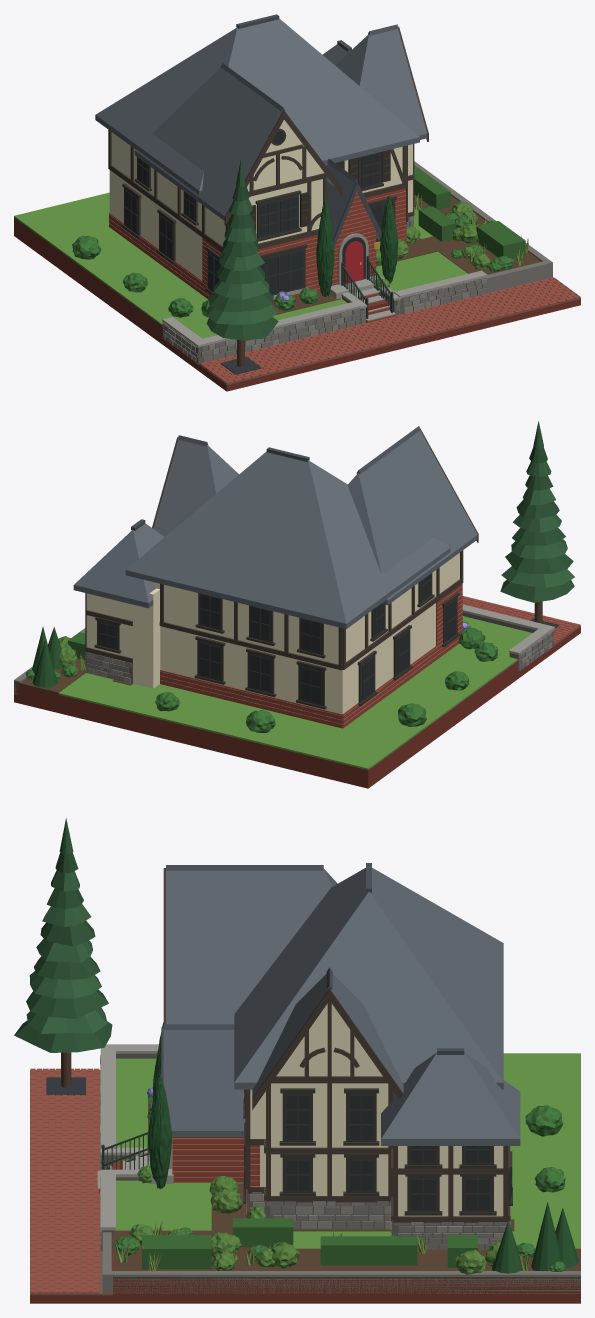
Rendered from 3D_tudor_house.glb.
3 renders of one model, top to bottom at view 1: azimuth 30°, elevation 25°; view 2: azimuth 150°, elevation 25°; view 3: azimuth 270°, elevation 25°, orthographic. The views are drawn at different scales.
Parts seen in each view (by area): view 1: roof, grass, brick_pv, wall, brick_dk, timber, glass, brick, stone, frame, stone_cap, pine2 (+14 smaller); view 2: roof, wall, grass, brick_dk, frame, glass, brick, timber, pine2, pine, shrub, cypress (+8 smaller); view 3: roof, grass, brick_pv, stone, wall, brick_dk, timber, hedge, frame, pine2, mulch, glass (+14 smaller).
Boxes of the visible parts, <box> form: roof: <box>95,18,427,240</box>; grass: <box>14,192,467,338</box>; brick_pv: <box>200,277,580,383</box>; wall: <box>109,120,412,280</box>; brick_dk: <box>14,218,580,391</box>; timber: <box>108,26,428,251</box>; glass: <box>125,131,392,294</box>; brick: <box>109,188,406,322</box>; stone: <box>162,161,552,362</box>; frame: <box>121,152,396,295</box>; stone_cap: <box>162,233,487,347</box>; pine2: <box>206,183,278,340</box>; roof: <box>73,431,477,628</box>; wall: <box>86,553,459,714</box>; grass: <box>58,616,532,769</box>; brick_dk: <box>14,627,580,788</box>; frame: <box>94,573,459,709</box>; glass: <box>99,574,456,703</box>; brick: <box>160,583,462,728</box>; timber: <box>85,430,478,670</box>; pine2: <box>500,447,574,602</box>; pine: <box>501,421,574,587</box>; shrub: <box>26,621,497,732</box>; cypress: <box>32,626,62,687</box>; roof: <box>163,868,520,1145</box>; grass: <box>113,1053,580,1248</box>; brick_pv: <box>30,1068,99,1293</box>; stone: <box>100,1064,580,1293</box>; wall: <box>250,1003,503,1216</box>; brick_dk: <box>30,1161,580,1303</box>; timber: <box>163,868,510,1222</box>; hedge: <box>142,1218,477,1269</box>; frame: <box>243,1088,512,1215</box>; pine2: <box>14,852,112,1052</box>; mulch: <box>113,1088,580,1279</box>; glass: <box>244,1090,511,1209</box>.
Size of the model in its own units: 17.67 by 11.15 by 18.72.
